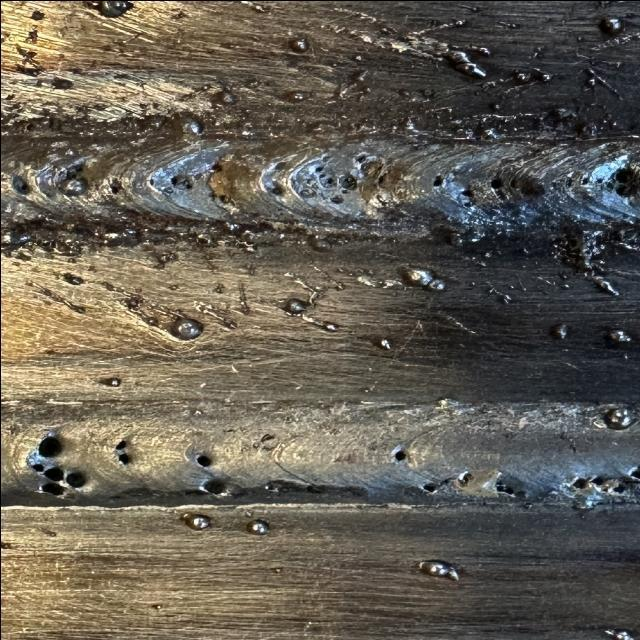Excess Reinforcement: (0, 219, 142, 256), (553, 226, 618, 295)
Porosity: (37, 436, 62, 458), (600, 478, 627, 495), (592, 476, 617, 494), (113, 439, 130, 465), (200, 479, 225, 495), (518, 182, 545, 196), (493, 479, 514, 495), (65, 472, 85, 488), (42, 466, 63, 481), (40, 482, 63, 495), (615, 168, 632, 184), (66, 164, 84, 179), (12, 176, 27, 194), (457, 470, 473, 486), (458, 189, 473, 206), (603, 174, 617, 191), (340, 175, 355, 190), (615, 182, 630, 196), (195, 455, 212, 466), (107, 180, 120, 194), (628, 464, 640, 479), (572, 478, 588, 489), (113, 439, 127, 451), (590, 478, 603, 490), (420, 482, 435, 492), (328, 194, 344, 203), (490, 178, 503, 189), (494, 189, 507, 200), (209, 162, 223, 172), (299, 187, 314, 196), (436, 476, 451, 485), (393, 450, 405, 461), (118, 453, 130, 464), (180, 178, 192, 189), (30, 462, 43, 471), (217, 193, 230, 202), (432, 175, 442, 186), (377, 172, 387, 183), (508, 178, 517, 189), (326, 175, 335, 186), (273, 161, 285, 169), (271, 186, 282, 194), (578, 176, 587, 185), (630, 168, 640, 176), (169, 175, 176, 185), (355, 156, 365, 163), (314, 165, 323, 172), (375, 163, 384, 170), (565, 177, 571, 187), (318, 172, 326, 178), (148, 177, 154, 185), (595, 177, 602, 183), (341, 188, 347, 193)
Spatters: (83, 0, 133, 18), (167, 316, 203, 340), (420, 559, 458, 580), (602, 408, 637, 430), (398, 265, 433, 286), (58, 176, 87, 196), (598, 16, 623, 34), (475, 122, 500, 139), (185, 514, 210, 530), (282, 298, 305, 315), (308, 235, 332, 251), (602, 628, 633, 640), (245, 519, 268, 535), (182, 119, 202, 135), (290, 36, 308, 51), (608, 329, 630, 341), (427, 278, 445, 291), (60, 275, 82, 285), (553, 324, 567, 339), (513, 70, 529, 82), (150, 115, 163, 128), (251, 1, 266, 11), (222, 319, 237, 329), (353, 69, 368, 79), (30, 9, 43, 20), (223, 221, 238, 230), (378, 338, 390, 349), (212, 282, 223, 294), (107, 376, 120, 386), (145, 316, 158, 326), (222, 91, 233, 102), (402, 118, 413, 129), (477, 46, 490, 55), (334, 280, 345, 290), (73, 305, 85, 314), (0, 541, 13, 549), (325, 322, 338, 330), (210, 101, 223, 109), (245, 78, 258, 86), (532, 46, 542, 56), (292, 91, 303, 100), (540, 73, 551, 81), (43, 529, 55, 536), (522, 501, 532, 509), (200, 82, 210, 90), (240, 129, 253, 135), (270, 566, 282, 572), (150, 604, 162, 610), (65, 148, 75, 155), (485, 79, 495, 86), (502, 294, 510, 302), (168, 284, 178, 290), (352, 54, 362, 60), (1, 129, 8, 136), (340, 112, 347, 119), (575, 34, 582, 41), (360, 386, 368, 392), (467, 281, 475, 286), (390, 124, 397, 129), (27, 280, 32, 284)
